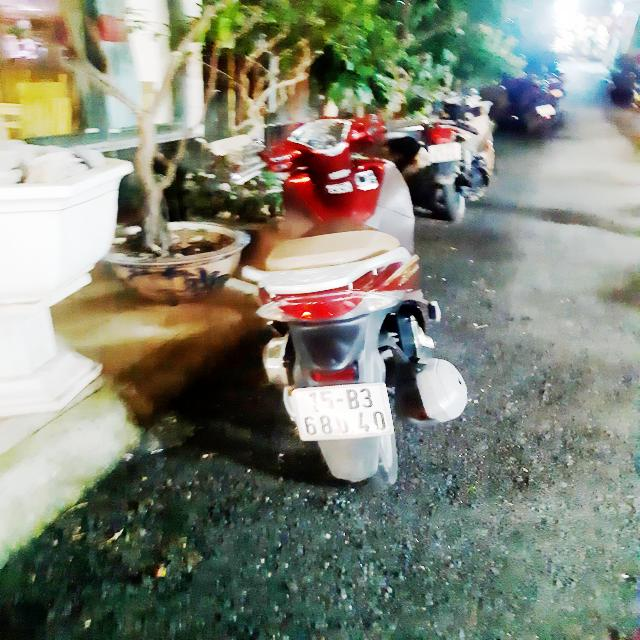license_plate: (290, 380, 400, 446)
